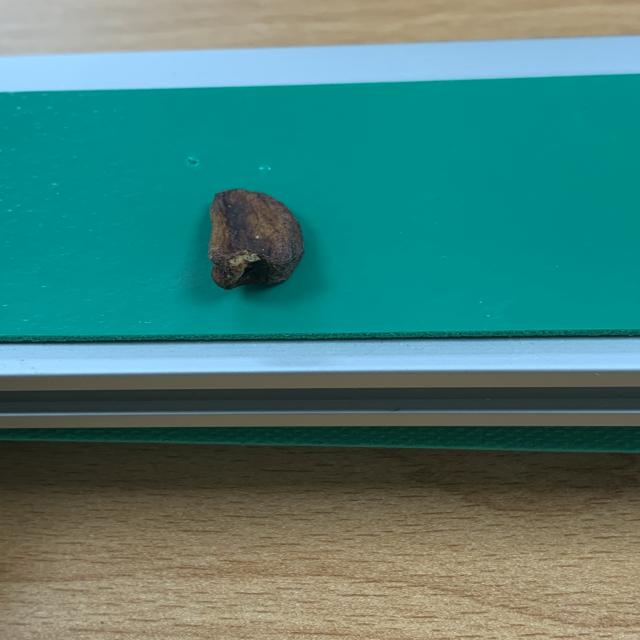Flat_cocoabeans: (151, 179, 403, 319)
